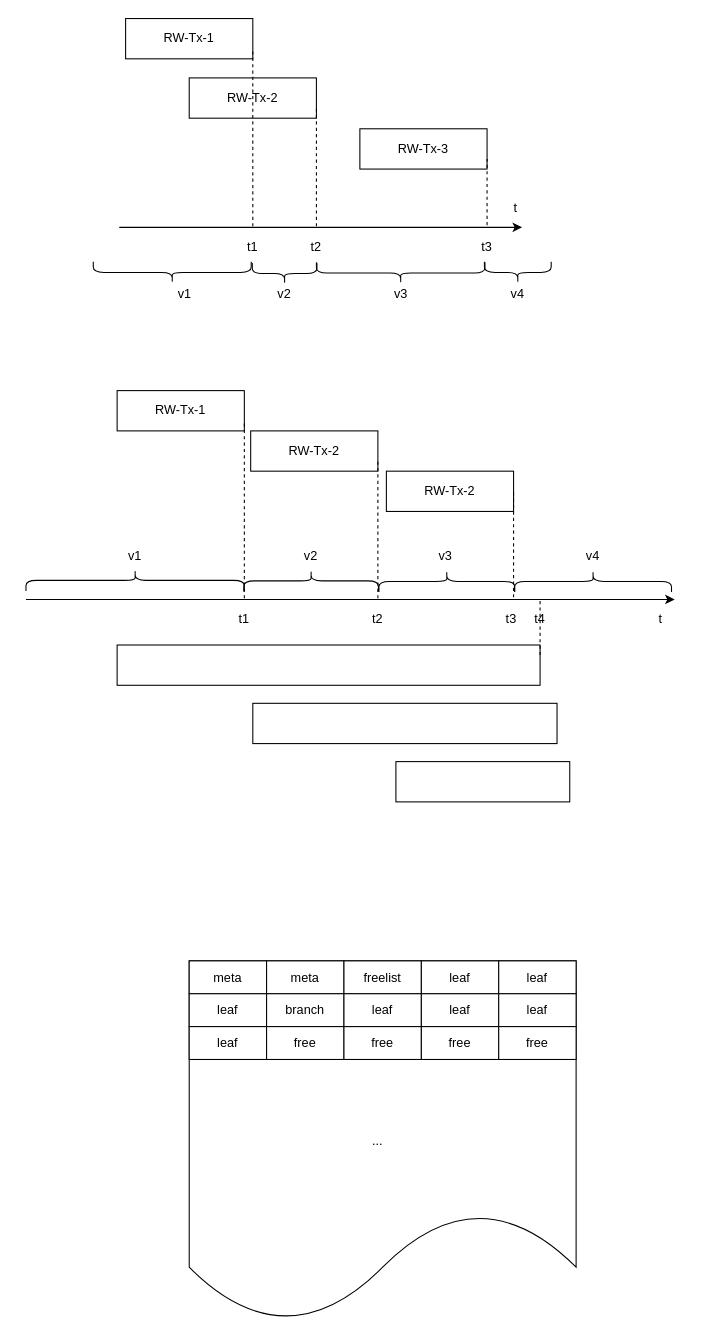
Image size: 702x1340. Some labels were removed from this diagram. Each missing label, with the centre of its shape:
RO-Tx-1: the point at 328,664
RO-Tx-2: the point at 404,723
RO-Tx-3: the point at 482,781
